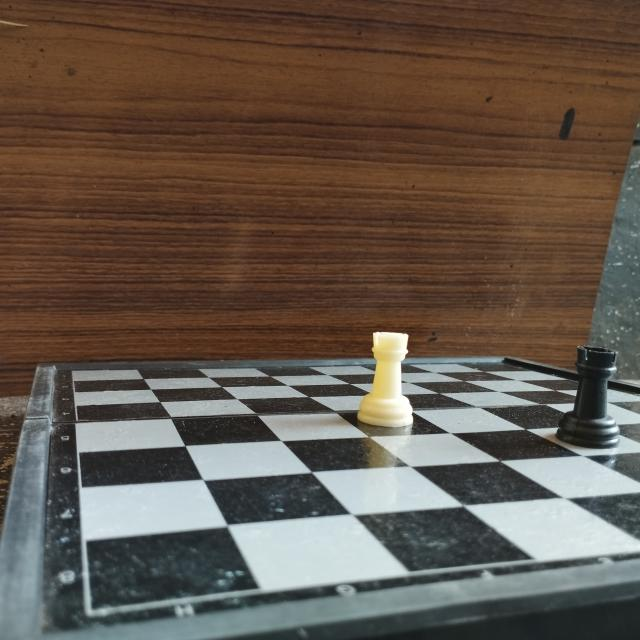Black Rook: (553, 343, 629, 453)
White Rook: (356, 324, 422, 436)
